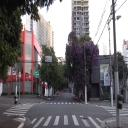speed_limit_40: (18, 71, 22, 78)
